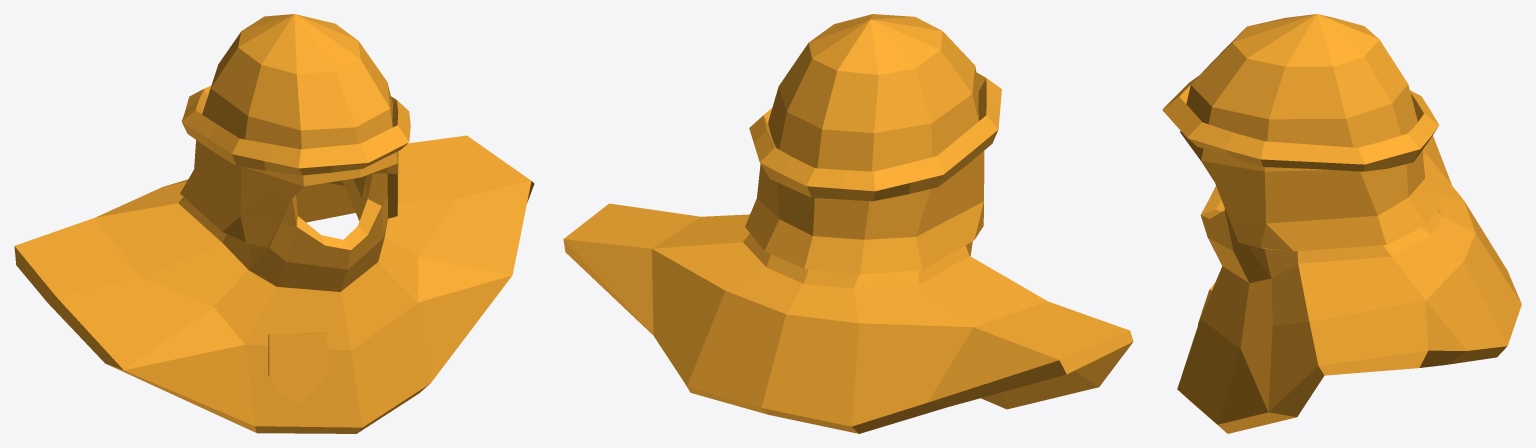
File: SM_Helmet_Basinet_A_Aventail.fbx
3 renders of one model, left to right at view 1: azimuth 30°, elevation 25°; view 2: azimuth 150°, elevation 25°; view 3: azimuth 270°, elevation 25°, orthographic. The views are drawn at different scales.
Visible parts, largest first — view 1: helmet-basinet-a-aventail; view 2: helmet-basinet-a-aventail; view 3: helmet-basinet-a-aventail.
Part boxes in pixels (bbox=[...]): helmet-basinet-a-aventail: bbox=[14, 14, 534, 433]; helmet-basinet-a-aventail: bbox=[563, 14, 1133, 433]; helmet-basinet-a-aventail: bbox=[1162, 14, 1521, 433].
Size of the model in its own units: 0.5737 by 0.4216 by 0.356.
